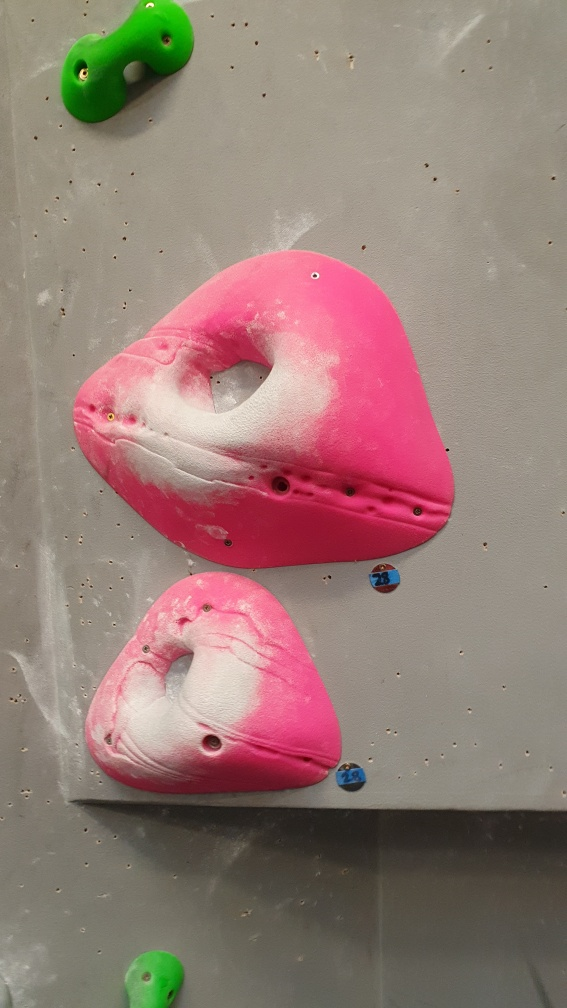Hand Start: (331, 761, 375, 799), (366, 562, 409, 600)
Pocket: (67, 246, 460, 570), (86, 570, 345, 800)
